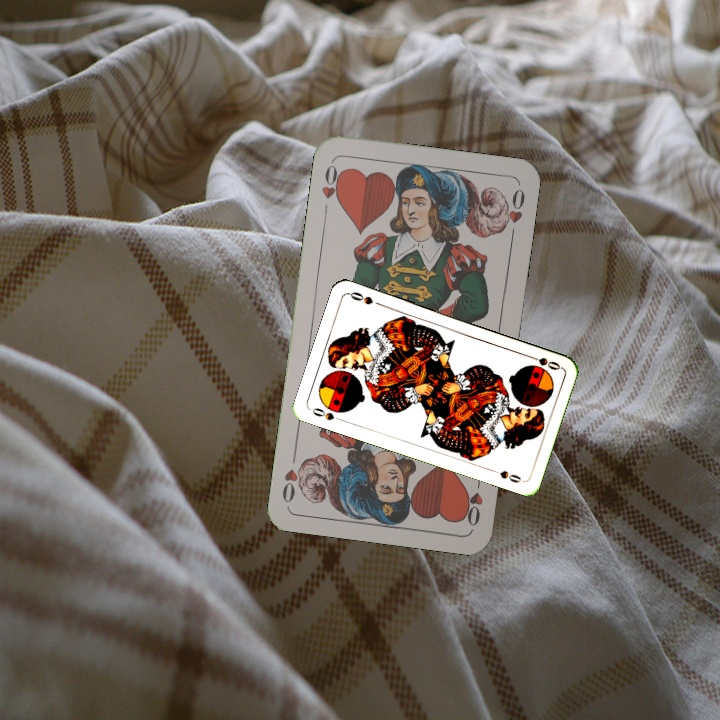HO: (317, 160, 346, 217), (460, 470, 486, 529)
SO: (524, 351, 563, 373), (308, 404, 346, 424)
